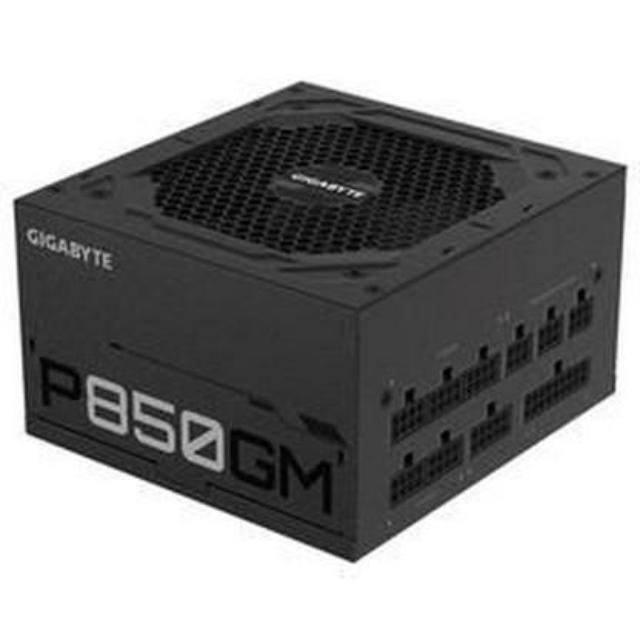PSU: (0, 71, 640, 574)
